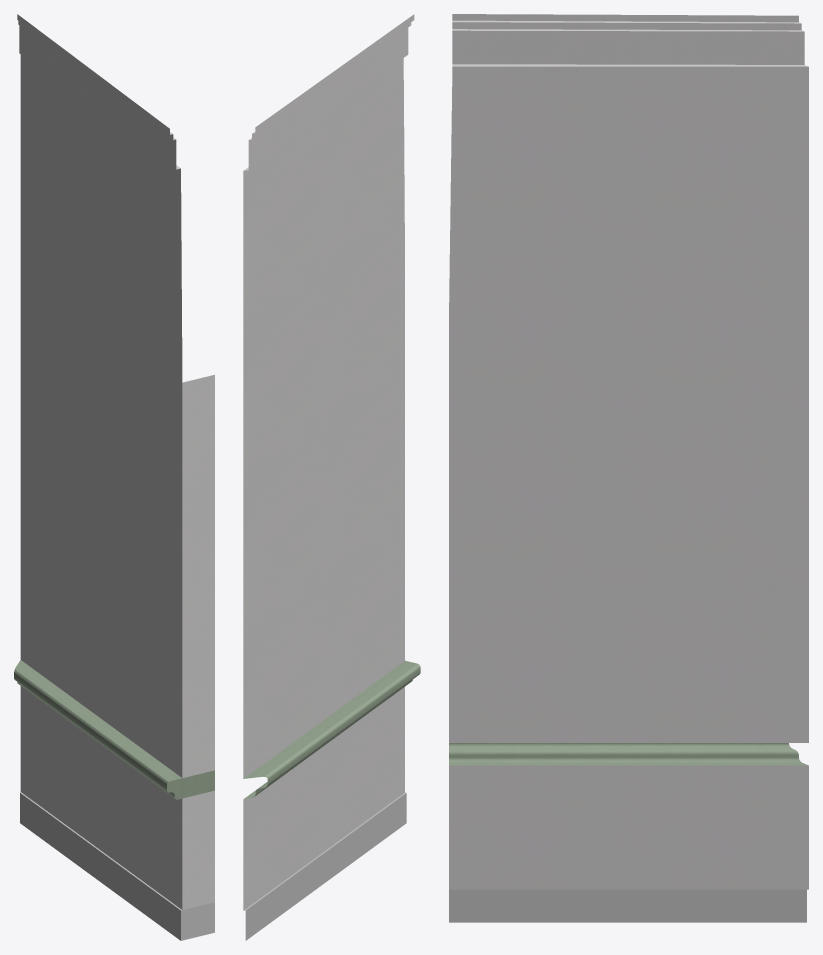
Rendered from SM_Wall_White_16.fbx.
3 views of the same model, side by side, from view 1: azimuth 30°, elevation 25°; view 2: azimuth 150°, elevation 25°; view 3: azimuth 270°, elevation 25° (orthographic). The views are drawn at different scales.
Parts seen in each view (by area): view 1: SM_Wall_White_16; view 2: SM_Wall_White_16; view 3: SM_Wall_White_16.
Part boxes in pixels (bbox=[...]): SM_Wall_White_16: bbox=[14, 14, 214, 940]; SM_Wall_White_16: bbox=[243, 14, 420, 940]; SM_Wall_White_16: bbox=[449, 14, 808, 922].
Size of the model in its own units: 30.94 by 181 by 501.
